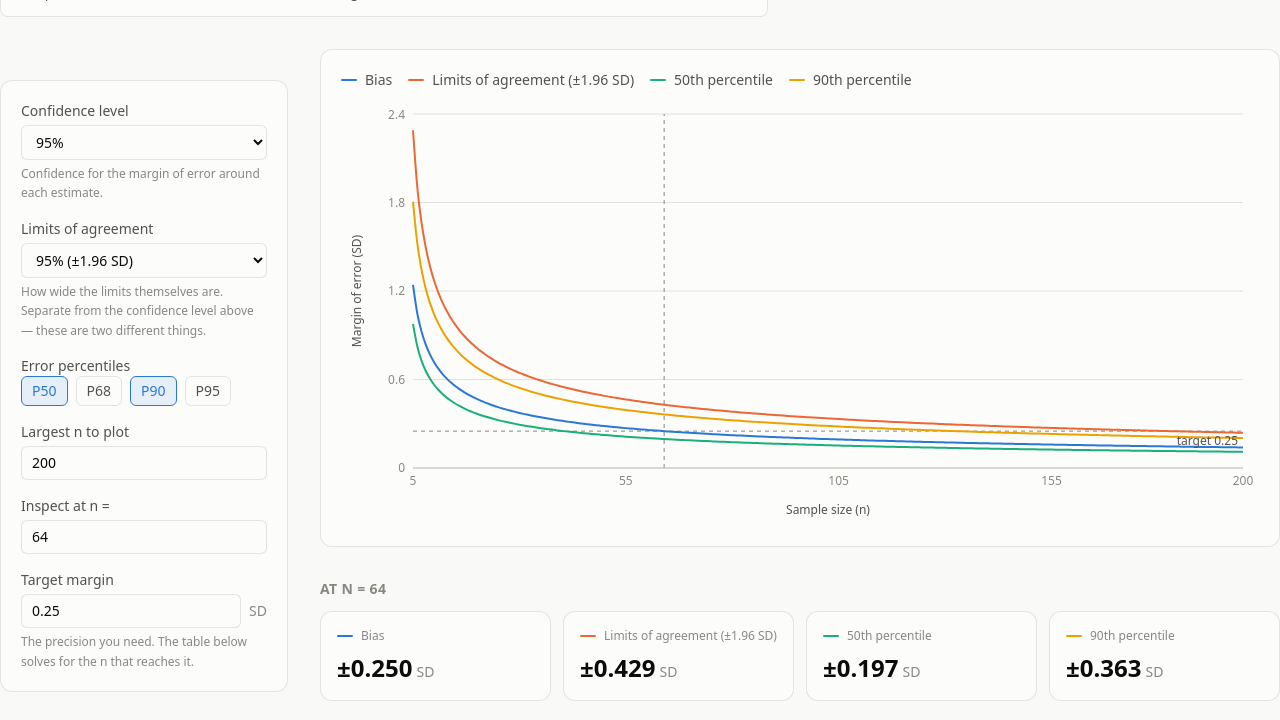
Test: PrecisionPage › adds and removes percentile series
The width and height of the screenshot is (1280, 720).
(page scrolled)
Expected: the text "68th percentile" is not shown
Click the button "P68": [99, 392] box [76, 376, 122, 406]
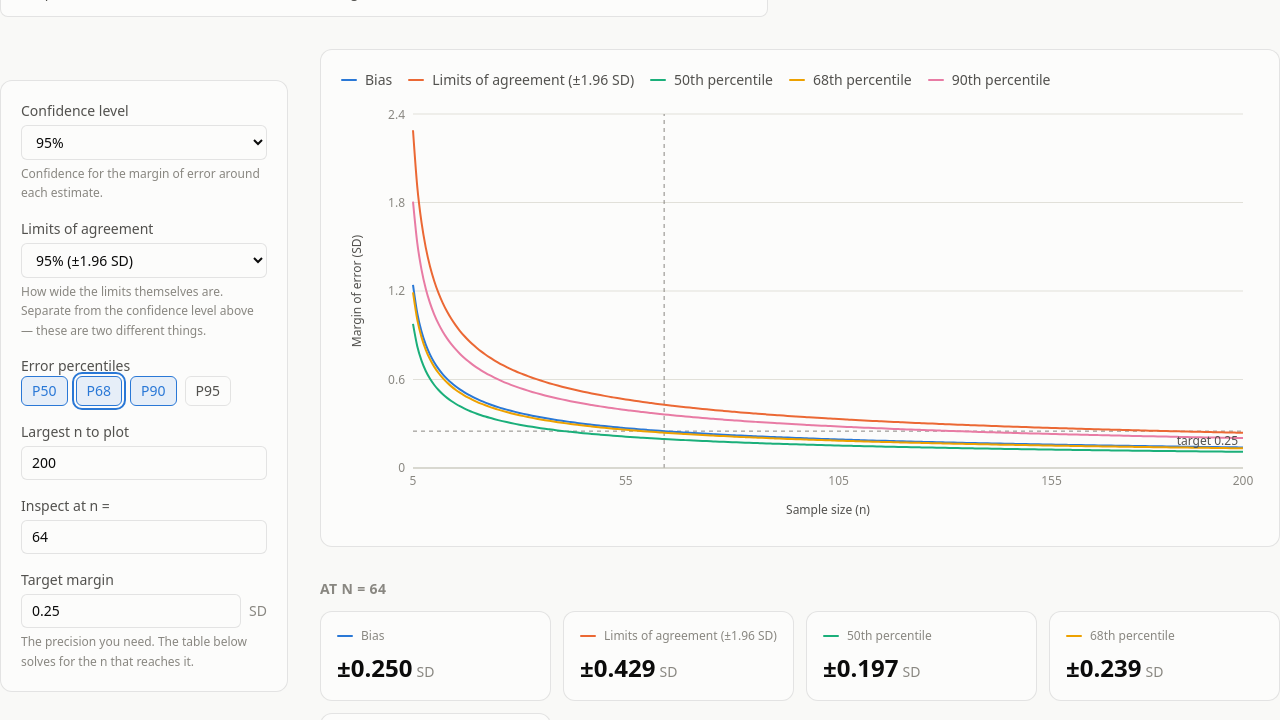
Result: the 2nd text "68th percentile" is shown at [1090, 628, 1175, 644]
Click the button "P50": [44, 392] box [21, 376, 68, 406]
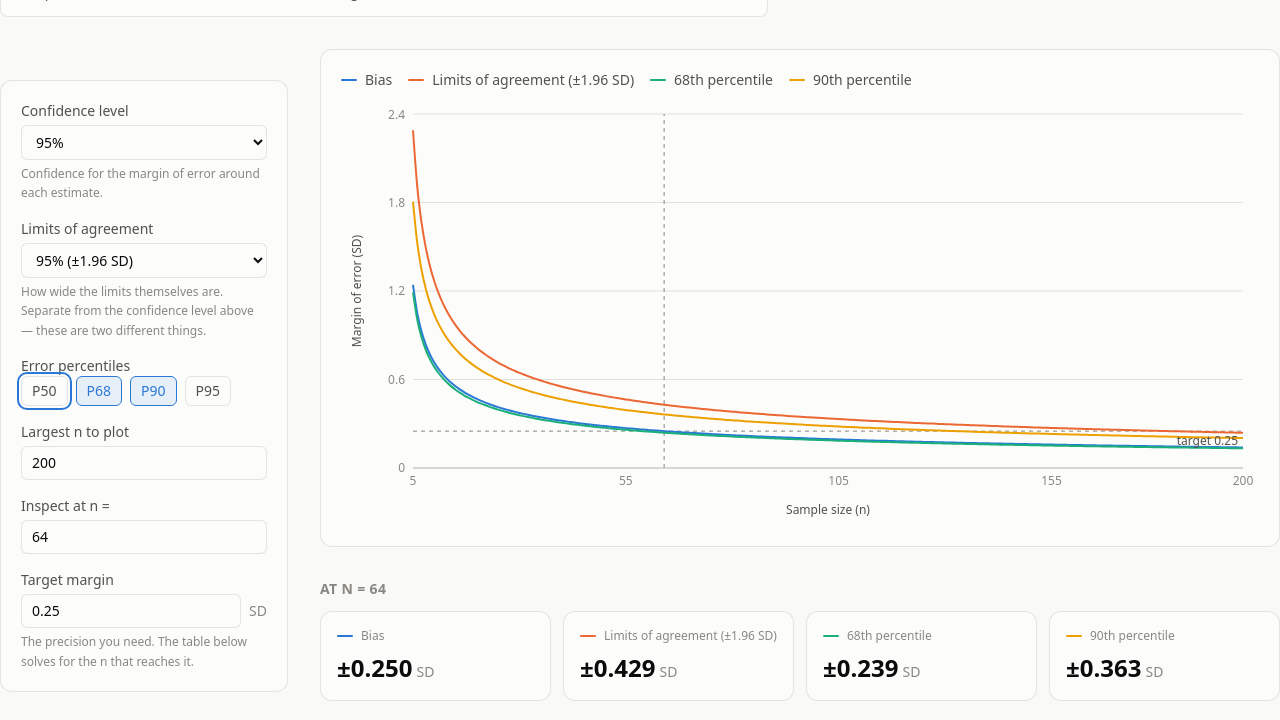
Result: the text "50th percentile" is gone
